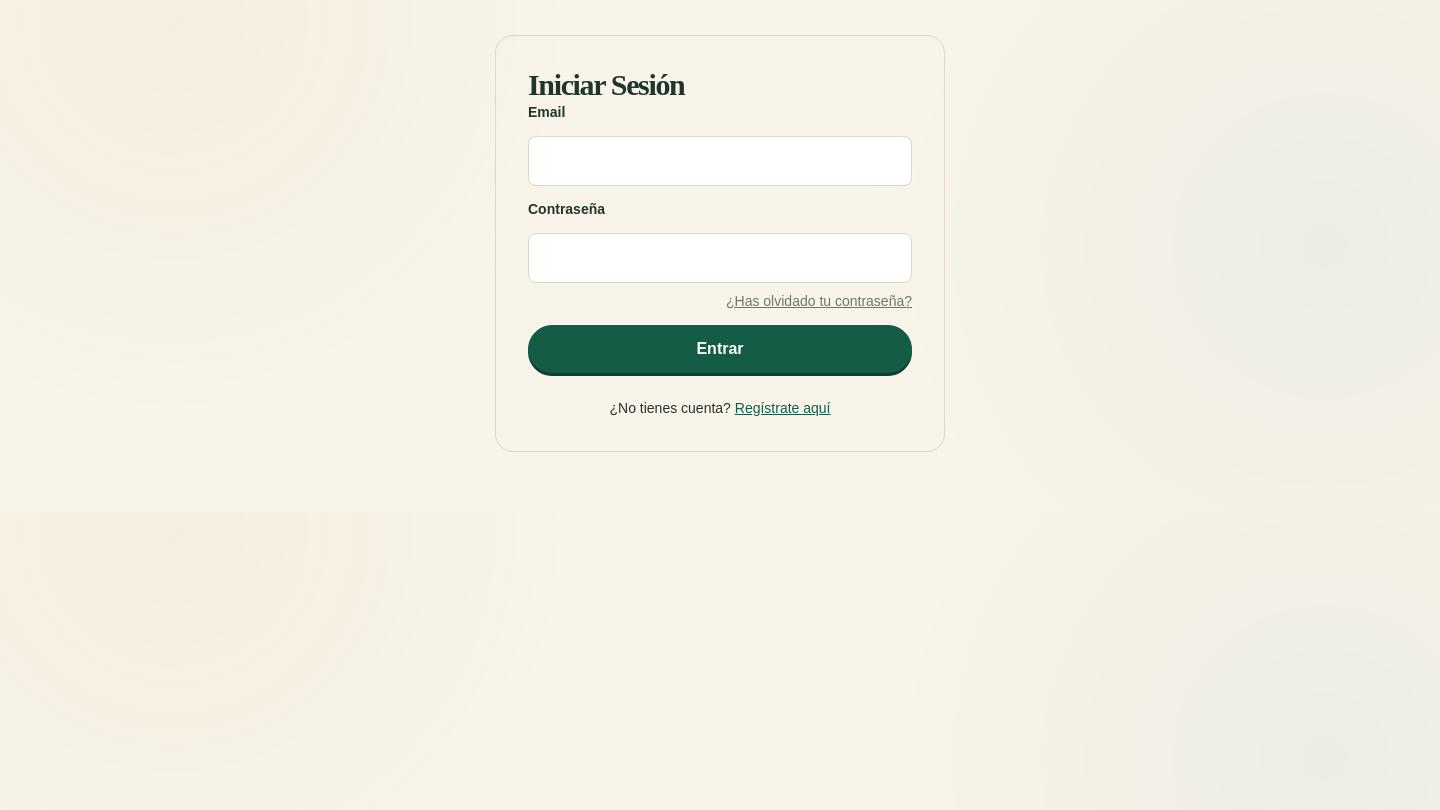
Scenario: Login Page › displays error message when login fails
# Fill form
Type "wrong@example.com" into the field labelled "Email" at (720, 161), box [528,136,912,186]
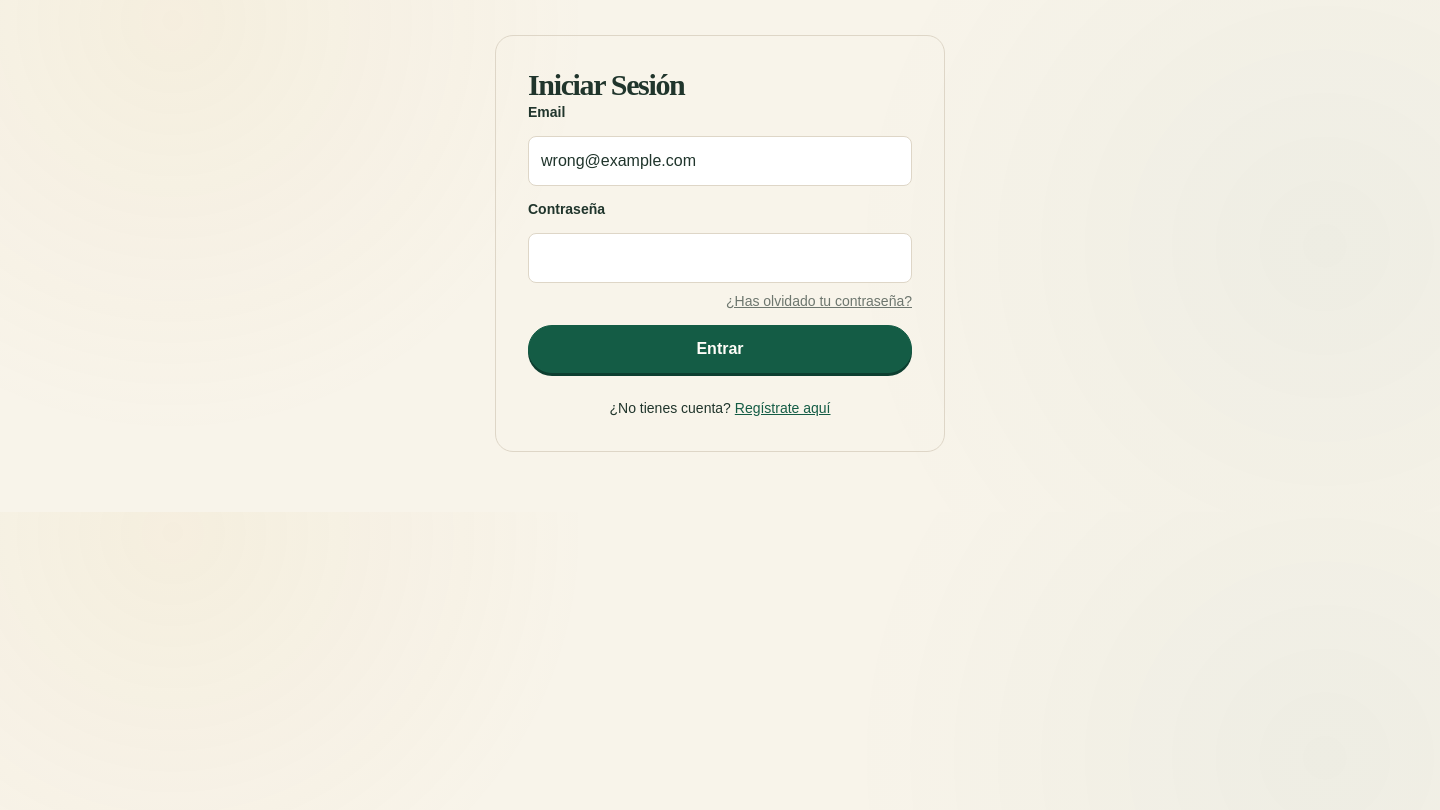
Type "wrongpassword" into the password field labelled "Contraseña" at (720, 258), box [528,233,912,283]
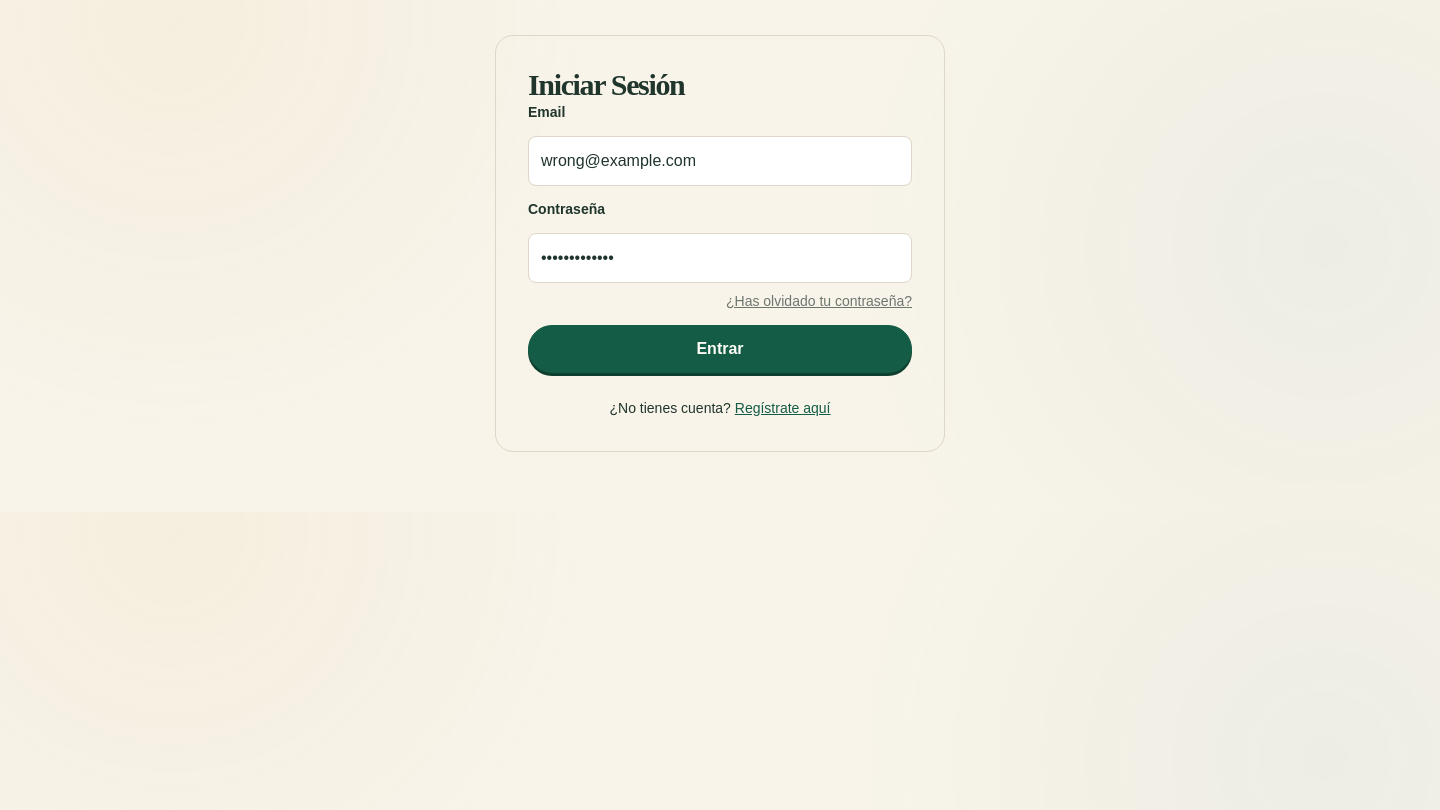
# Submit form
Click the button "Entrar" at (720, 349), box [528,325,912,373]
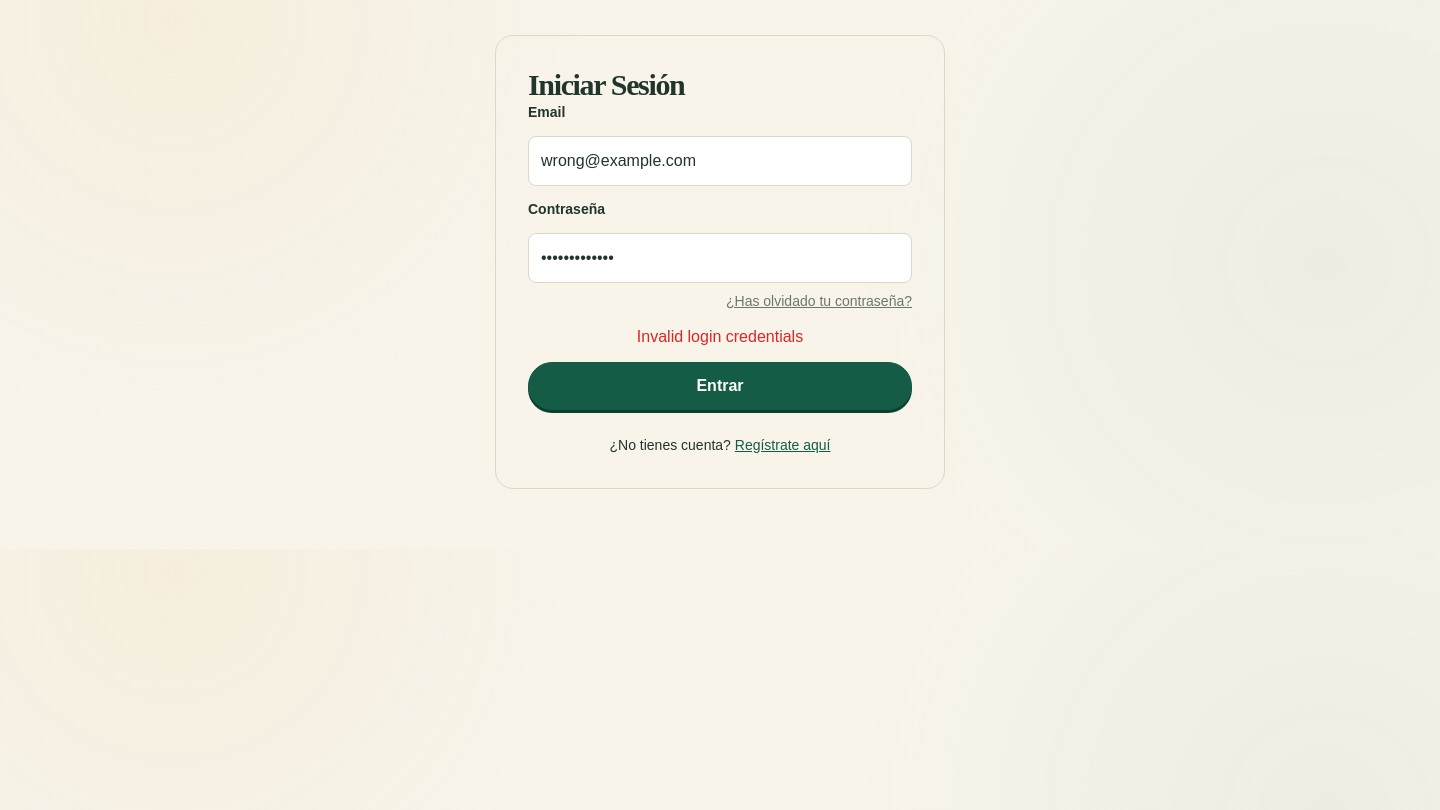
Expected: the button "Entrar" is shown, [528,362,912,410]
Expected: the text "Invalid login credentials" is shown, [637,328,803,345]
